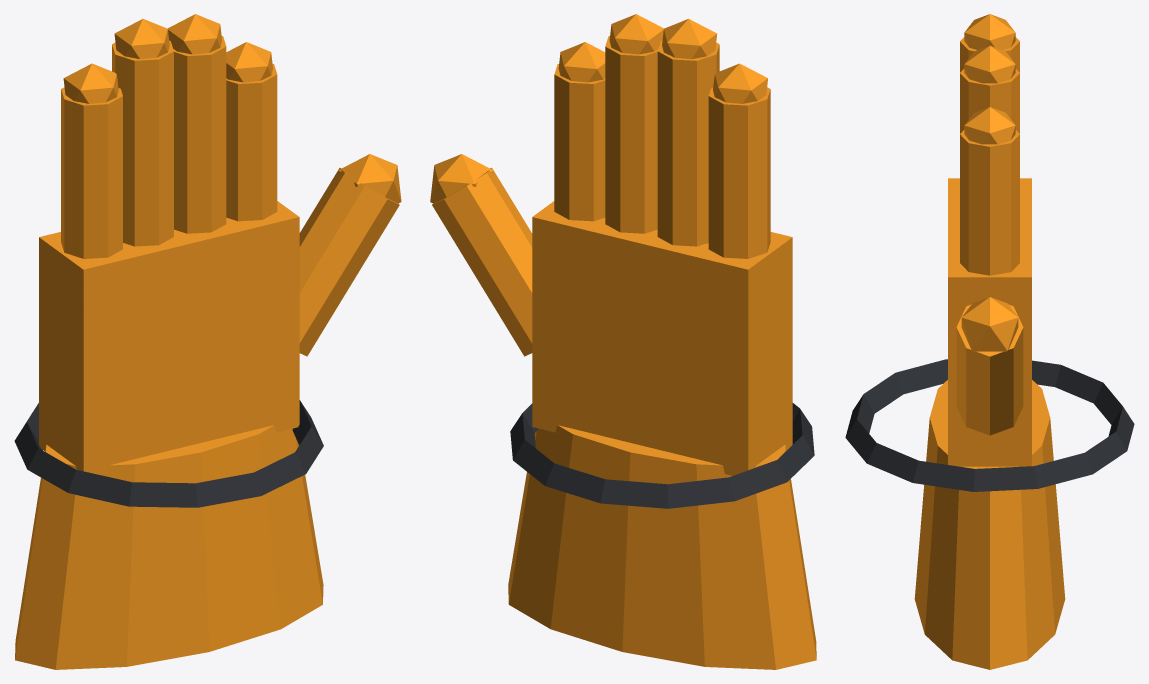
Rendered from GearFishGloves.obj.
3 renders of one model, left to right at view 1: azimuth 30°, elevation 25°; view 2: azimuth 150°, elevation 25°; view 3: azimuth 270°, elevation 25°, orthographic. The views are drawn at different scales.
Visible parts, largest first — view 1: GearFishGloves; view 2: GearFishGloves; view 3: GearFishGloves.
Boxes of the visible parts, x1,y1,x2,y2 form: GearFishGloves: (14, 14, 401, 669); GearFishGloves: (430, 14, 816, 669); GearFishGloves: (845, 14, 1134, 669).
Bounding box in the file's own units: 0.2479 × 0.378 × 0.1728.
